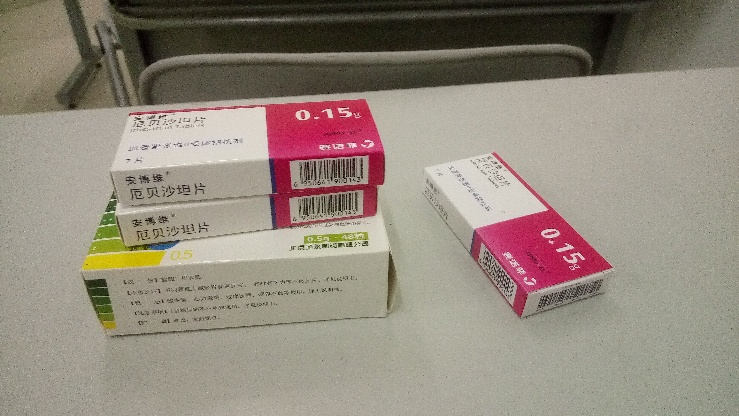pillbox: (424, 154, 614, 316), (112, 98, 383, 206), (74, 244, 395, 335), (118, 191, 378, 245)
